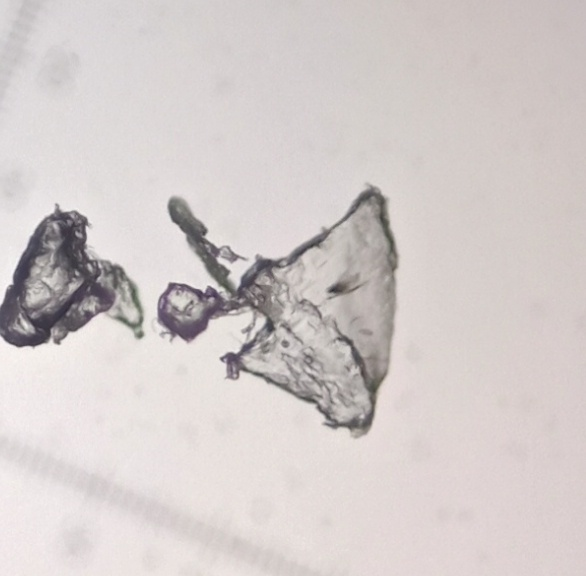microplastic: (162, 187, 403, 441), (1, 201, 150, 350)
